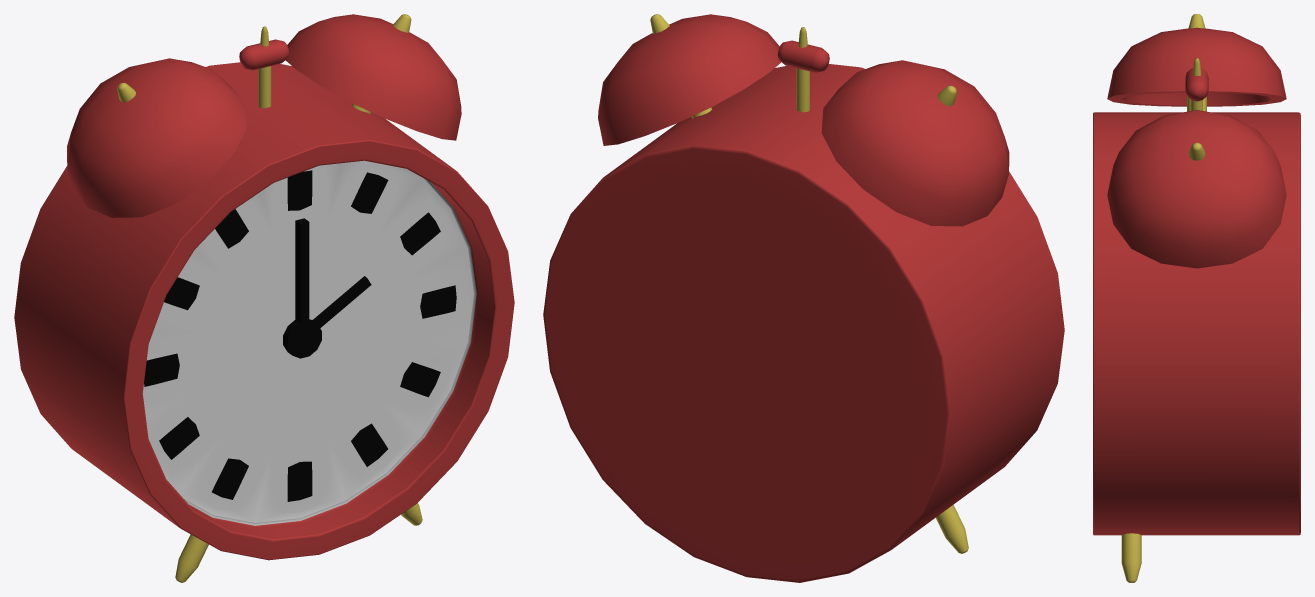
The model's file is Alarm_Clock.fbx.
3 views of the same model, side by side, from view 1: azimuth 30°, elevation 25°; view 2: azimuth 150°, elevation 25°; view 3: azimuth 270°, elevation 25° (orthographic). The views are drawn at different scales.
Parts seen in each view (by area): view 1: Alarm; view 2: Alarm; view 3: Alarm.
Boxes of the visible parts, <box> form: Alarm: <box>14,14,514,582</box>; Alarm: <box>543,14,1064,582</box>; Alarm: <box>1093,14,1300,582</box>.
Bounding box in the file's own units: 39.91 × 48.82 × 19.54.
